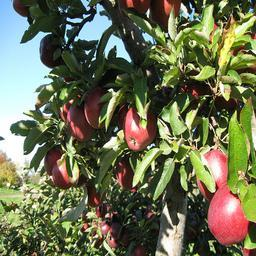apple: (206, 187, 252, 242), (197, 149, 228, 197), (124, 106, 156, 151), (84, 87, 116, 128), (66, 100, 94, 138), (150, 1, 180, 31), (51, 157, 74, 188), (118, 1, 149, 17)
